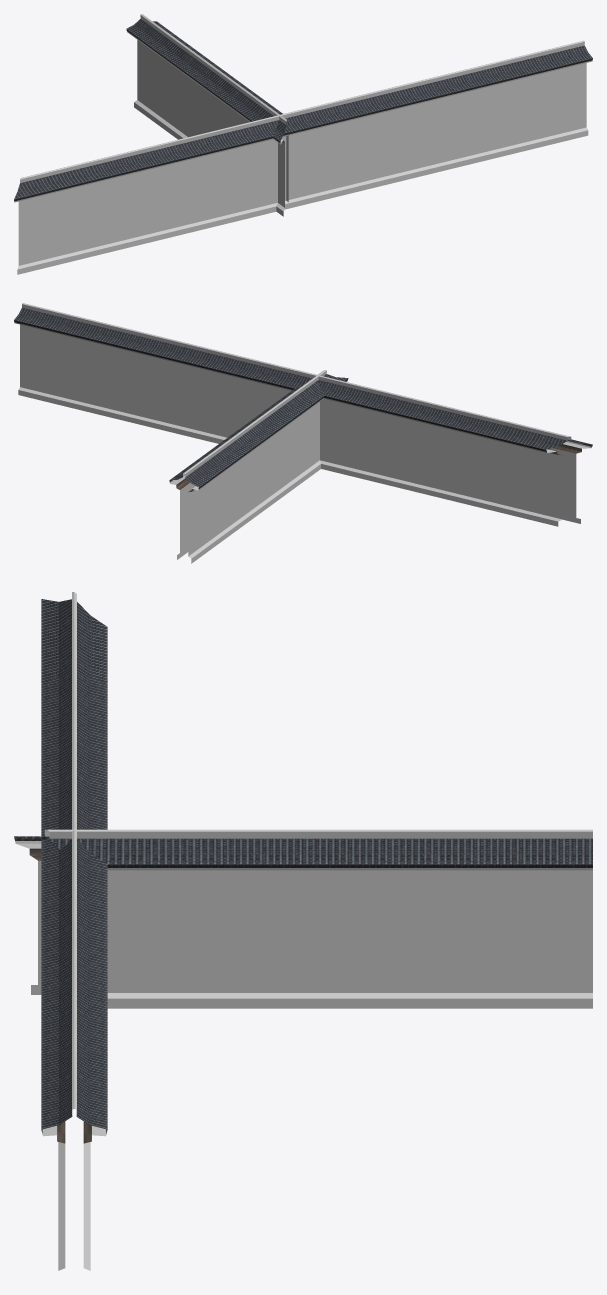
File: JiaYeSi_LuMian_2.FBX
3 views of the same model, one above another, from view 1: azimuth 30°, elevation 25°; view 2: azimuth 150°, elevation 25°; view 3: azimuth 270°, elevation 25° (orthographic). The views are drawn at different scales.
Visible parts, largest first — view 1: Object01, JiaYeSi_WeiQiang_5b, Object03, Object02; view 2: Object01, Object03, JiaYeSi_WeiQiang_5b, Object02; view 3: Object03, JiaYeSi_WeiQiang_5b, Object02, Object01.
Part boxes in pixels (x1=…): Object01: x1=14, y1=40, x2=592, y2=274; JiaYeSi_WeiQiang_5b: x1=14, y1=45, x2=592, y2=201; Object03: x1=127, y1=14, x2=288, y2=216; Object02: x1=126, y1=18, x2=288, y2=142; Object01: x1=14, y1=303, x2=591, y2=526; Object03: x1=170, y1=370, x2=347, y2=563; JiaYeSi_WeiQiang_5b: x1=14, y1=307, x2=592, y2=455; Object02: x1=169, y1=374, x2=348, y2=492; Object03: x1=15, y1=829, x2=592, y2=1008; JiaYeSi_WeiQiang_5b: x1=41, y1=599, x2=107, y2=1143; Object02: x1=14, y1=836, x2=592, y2=867; Object01: x1=42, y1=592, x2=106, y2=1270.
Bounding box in the file's own units: 4718 × 713 × 2175.
